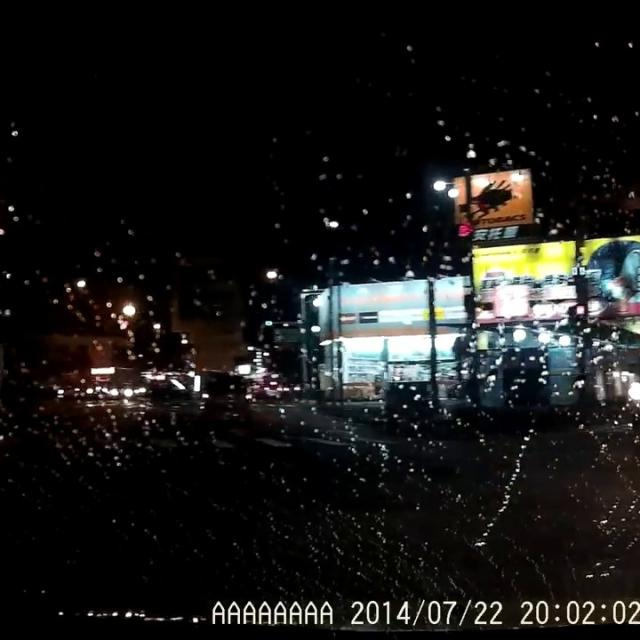Car: (196, 376, 255, 419)
